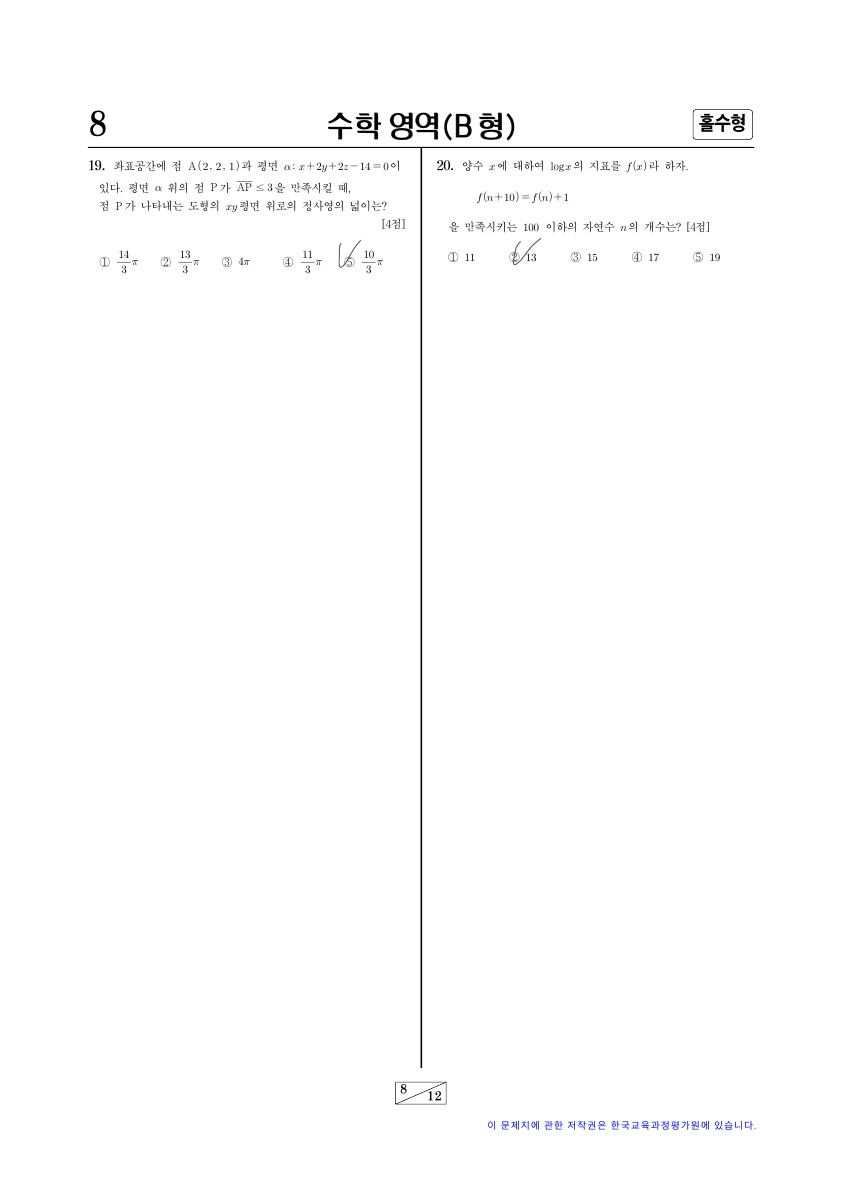question: (77, 146, 417, 295), (419, 148, 740, 286)
